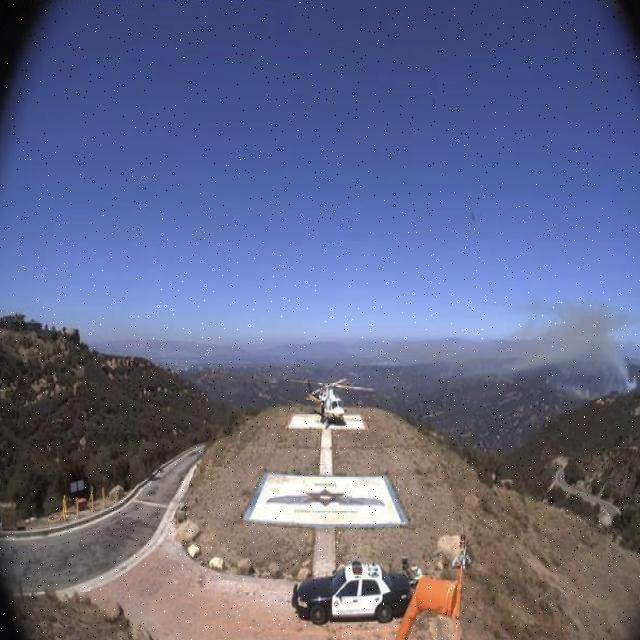smoke: (486, 294, 640, 399)
